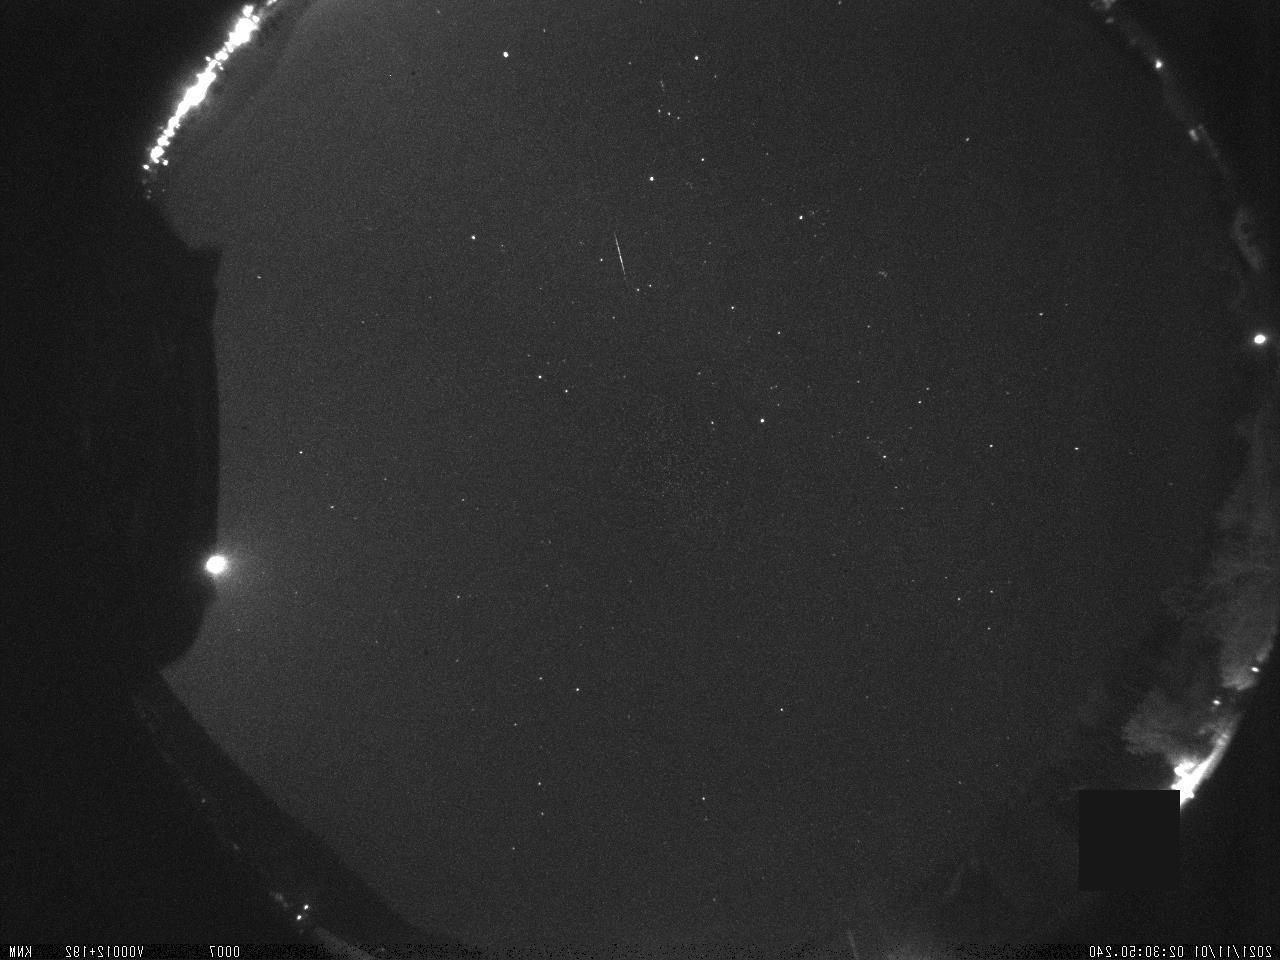meteor: (607, 229, 633, 280)
